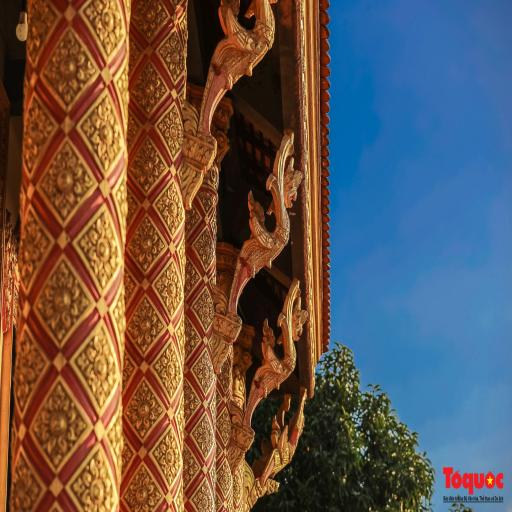hoa: (28, 376, 91, 467), (72, 314, 125, 410), (36, 265, 96, 343), (64, 437, 122, 512), (76, 202, 123, 288), (38, 29, 93, 98), (6, 205, 52, 285), (77, 92, 126, 166), (41, 141, 88, 217), (11, 319, 46, 416), (124, 375, 168, 445), (146, 416, 186, 487), (129, 206, 170, 274), (6, 448, 46, 512), (119, 456, 164, 512), (19, 96, 53, 170), (124, 134, 165, 194), (152, 175, 189, 238), (84, 0, 124, 58), (150, 256, 188, 316), (21, 0, 56, 63), (129, 292, 161, 358), (129, 59, 166, 116), (152, 336, 188, 394), (188, 220, 222, 277), (158, 100, 188, 162), (162, 24, 187, 88), (130, 0, 168, 42), (188, 410, 218, 460), (192, 348, 214, 400), (193, 284, 215, 335), (191, 478, 218, 512)
than: (229, 112, 304, 314), (191, 0, 283, 148), (240, 268, 308, 434), (251, 382, 311, 511)
